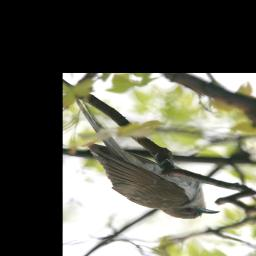Cuckoo: (74, 95, 219, 219)
